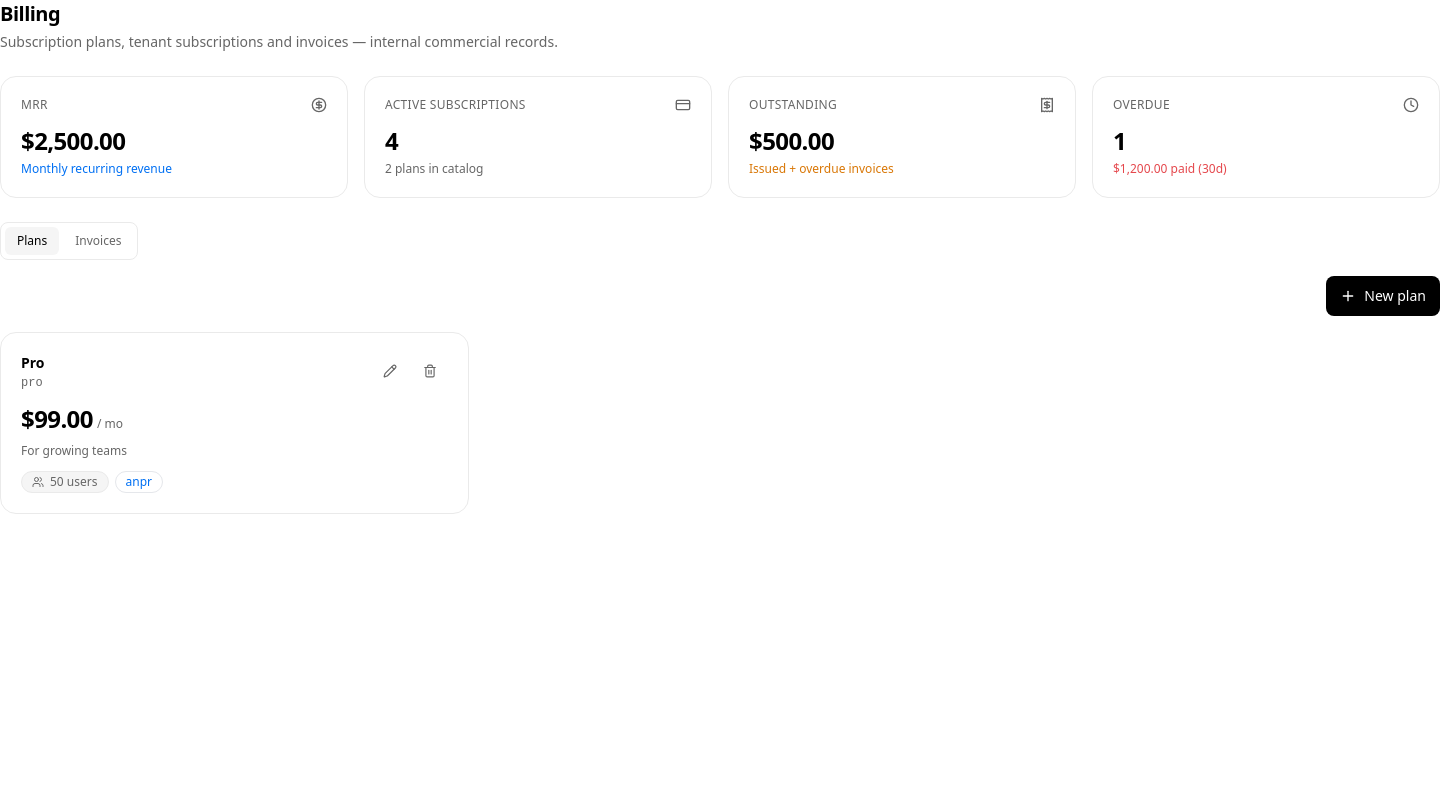
it: plans › confirms before deleting a plan
Click the button named "delete plan". click: (430, 371)
box: [412,353,448,389]
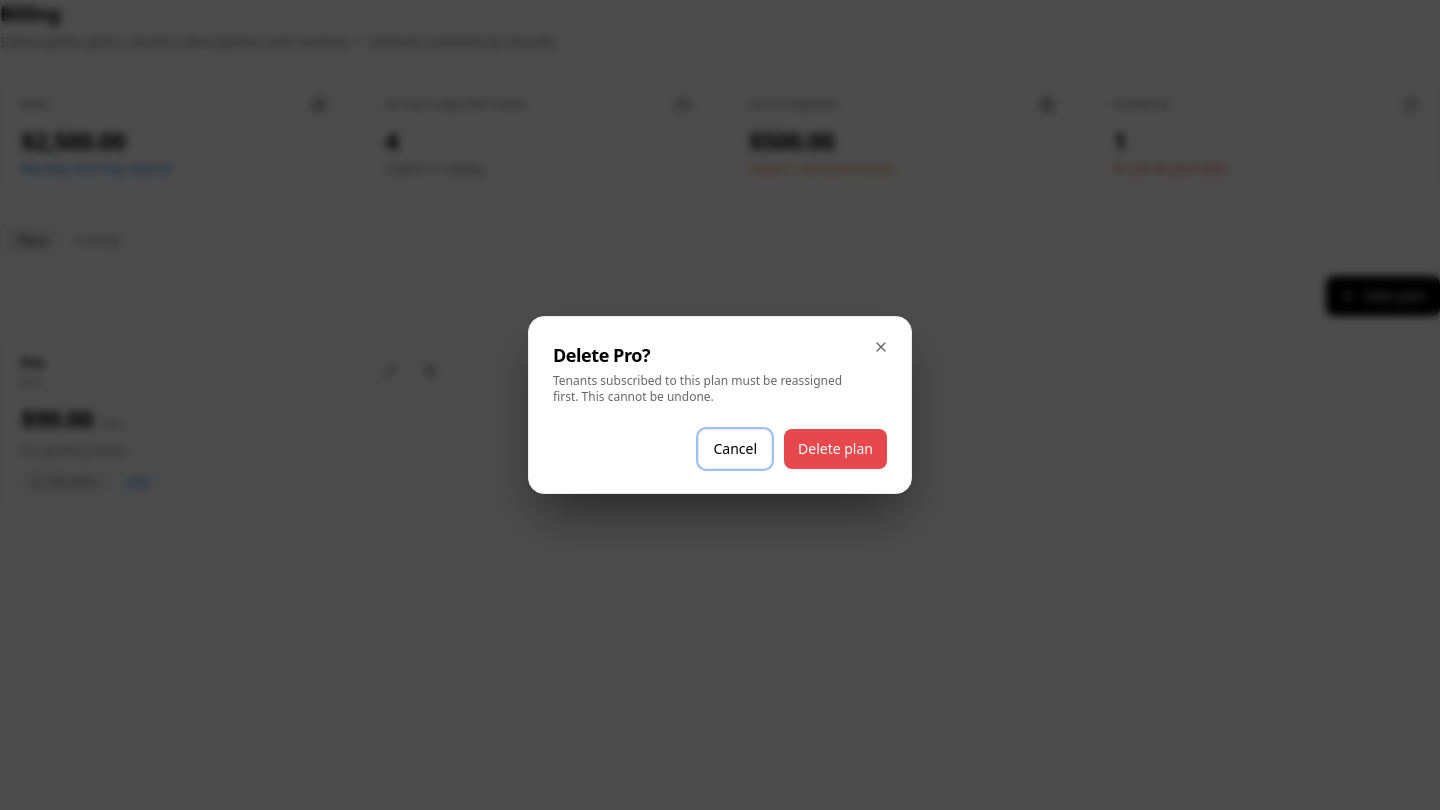
Now the text "must be reassigned first" is shown, box [553,372,842,405]
